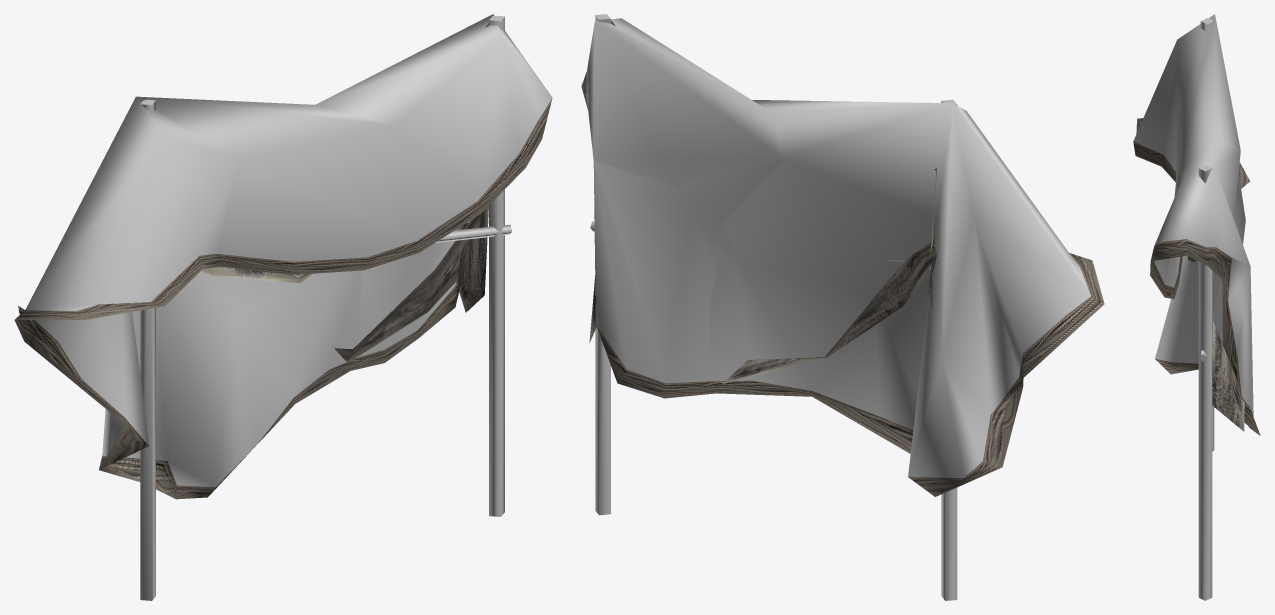
The model's file is Fishnet1_LOD2.fbx.
3 views of the same model, side by side, from view 1: azimuth 30°, elevation 25°; view 2: azimuth 150°, elevation 25°; view 3: azimuth 270°, elevation 25° (orthographic). The views are drawn at different scales.
Visible parts, largest first — view 1: polySurface1188; view 2: polySurface1188; view 3: polySurface1188.
Boxes of the visible parts, left/top/right/bottom form: polySurface1188: left=14, top=14, right=552, bottom=600; polySurface1188: left=581, top=14, right=1104, bottom=600; polySurface1188: left=1133, top=14, right=1260, bottom=600.
Bounding box in the file's own units: 7.23 × 6.6 × 1.76.
